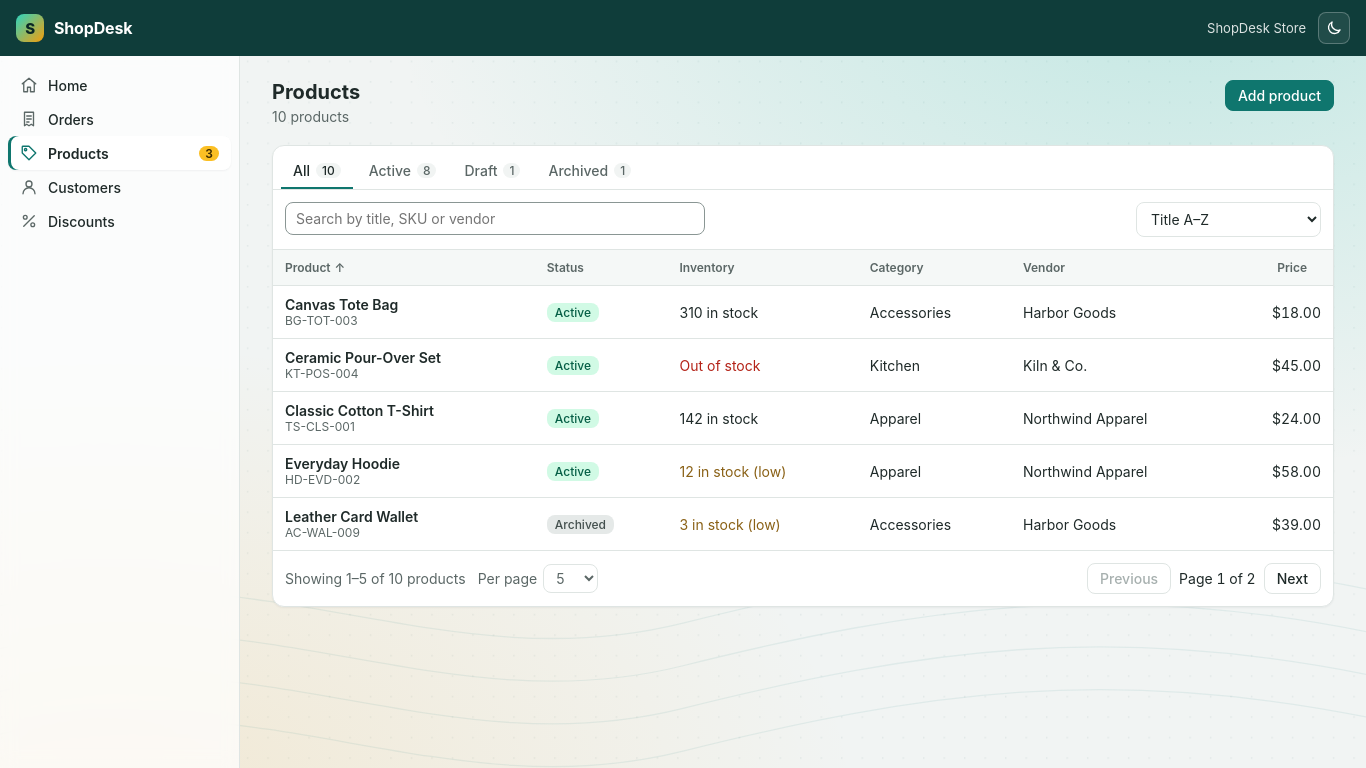
Test: creating a product › opens the form from the products page
Click the link "Add product".
click(1280, 96)  # box [1225,80,1334,111]
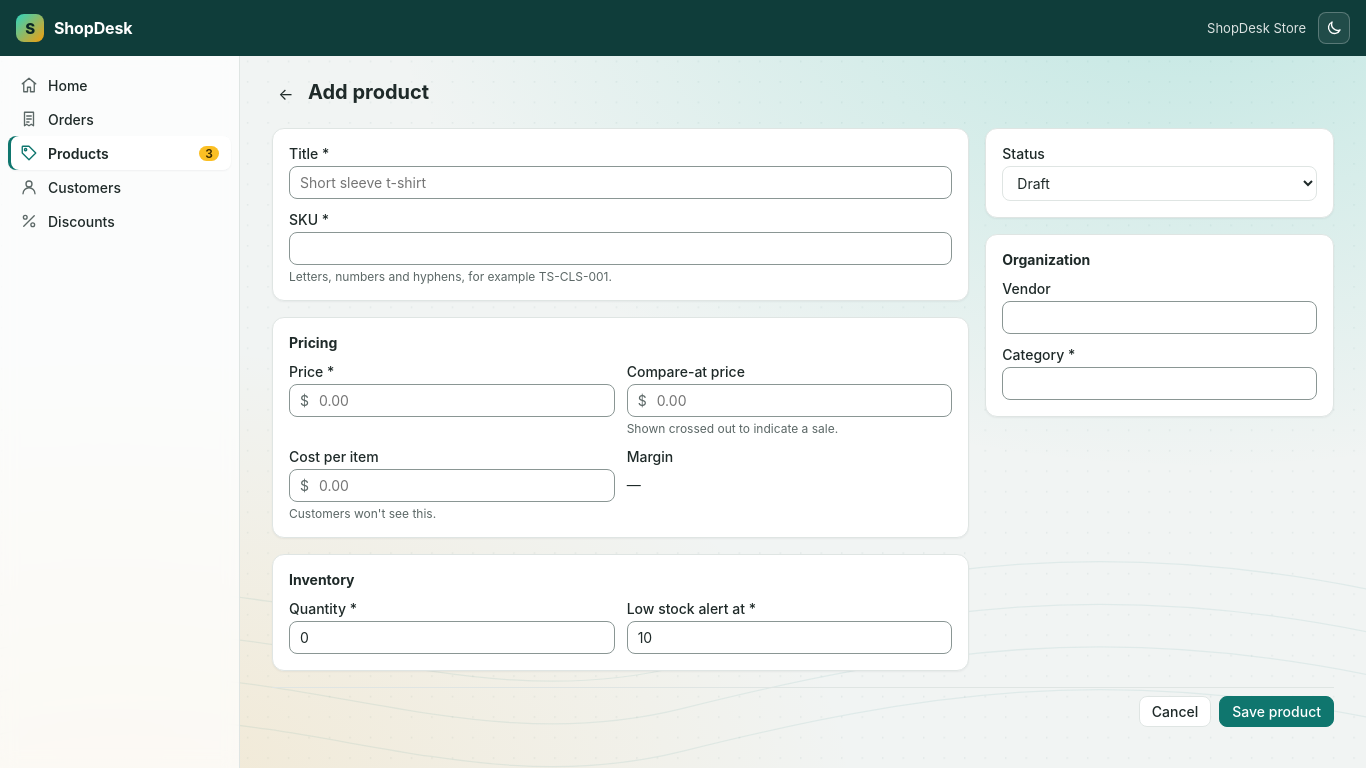
Result: the heading "Add product" is shown at [308,80,429,104]
